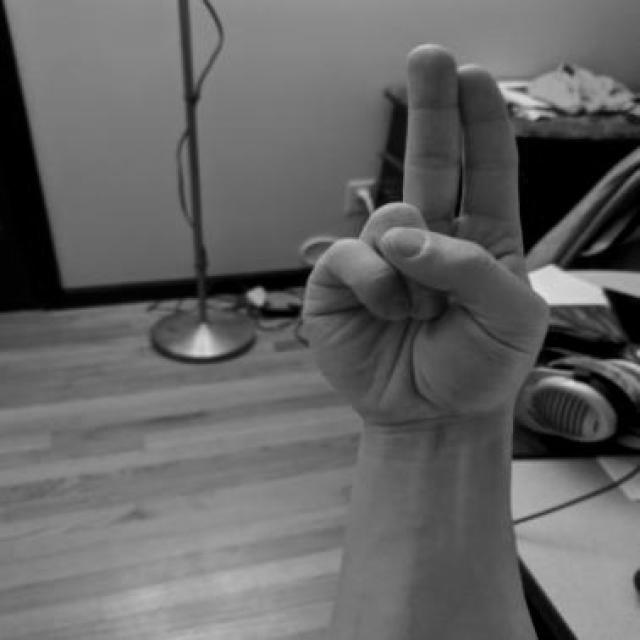U: (293, 38, 559, 434)
